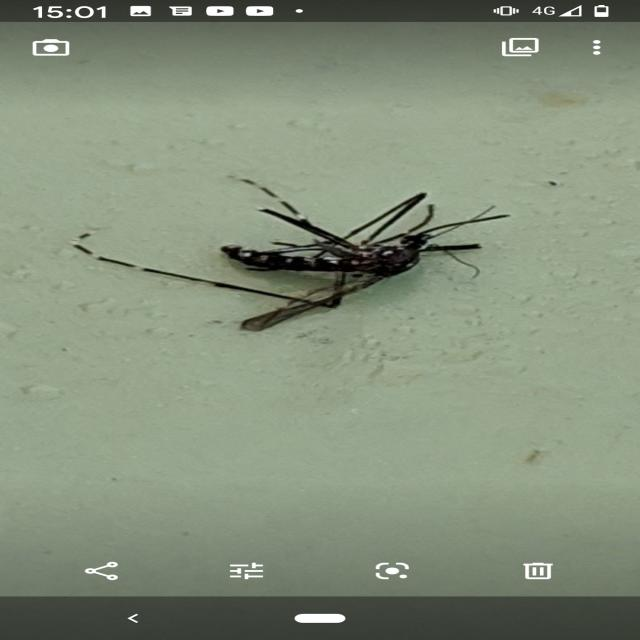albopictus: (72, 160, 516, 343)
